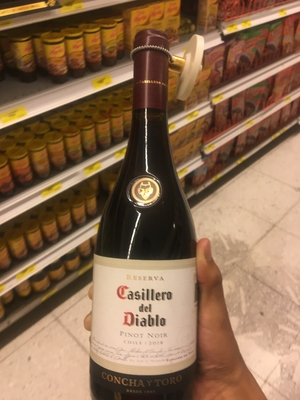casillero del diablo pinot noir: (81, 43, 210, 400)
